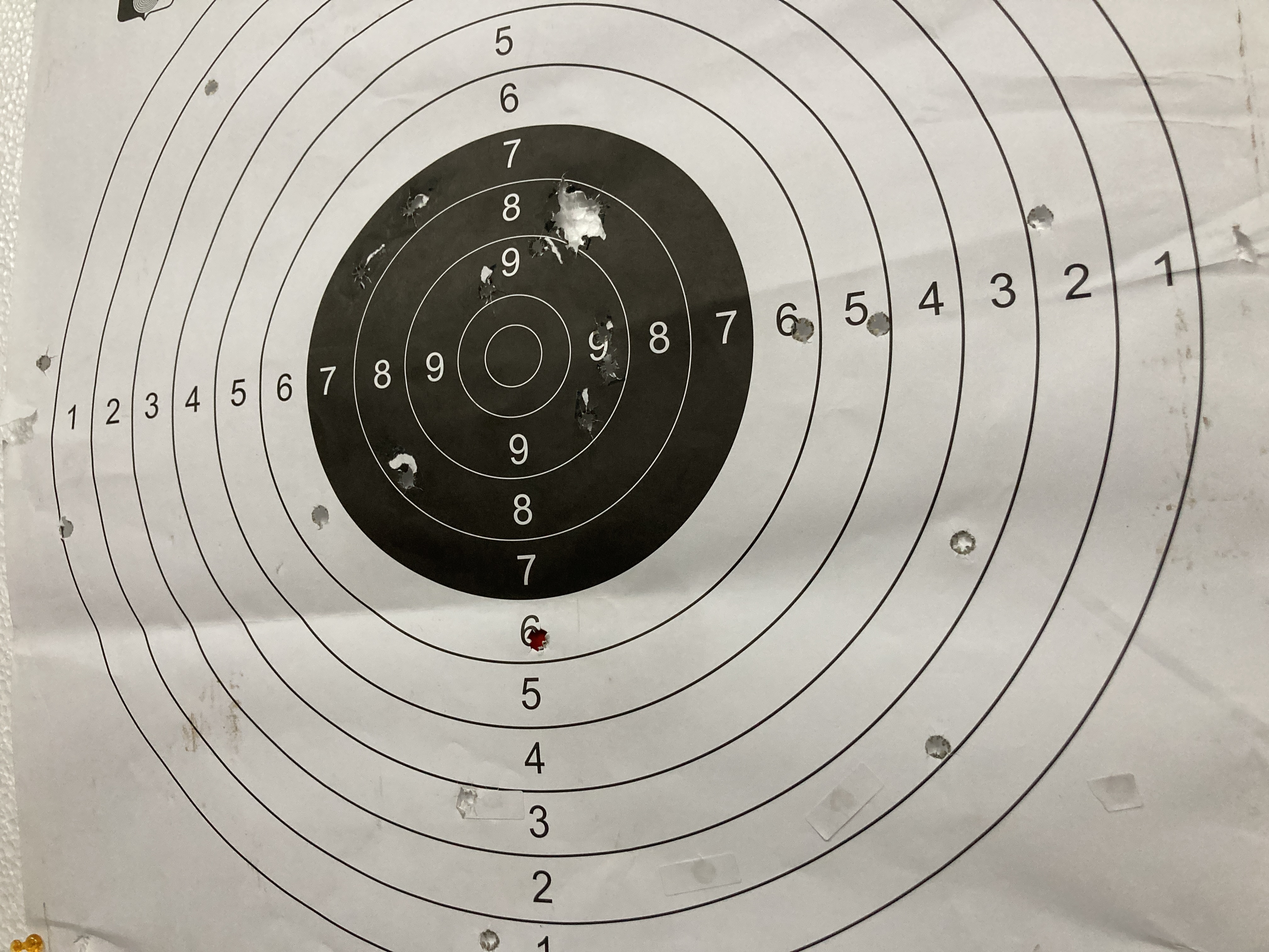hole: (544, 172, 620, 255), (377, 444, 430, 503), (1016, 191, 1057, 245), (913, 732, 960, 771), (852, 306, 901, 343), (442, 785, 487, 825), (466, 271, 512, 305), (346, 254, 386, 293), (47, 517, 91, 552), (945, 523, 980, 566), (785, 314, 826, 349), (300, 501, 339, 537), (515, 625, 562, 653), (391, 189, 427, 224), (195, 75, 229, 110), (585, 316, 623, 345), (591, 348, 623, 380), (32, 345, 63, 377), (522, 228, 552, 261), (471, 925, 505, 952), (570, 406, 594, 440)
